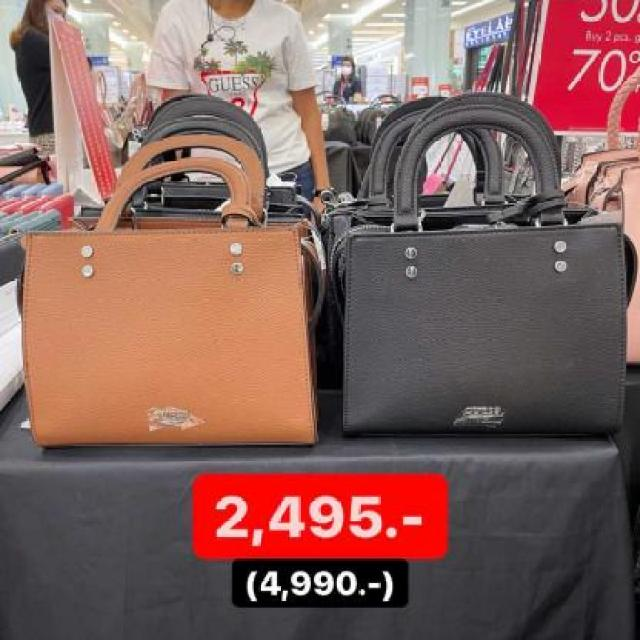Bag: (0, 71, 325, 477), (324, 96, 640, 452)
